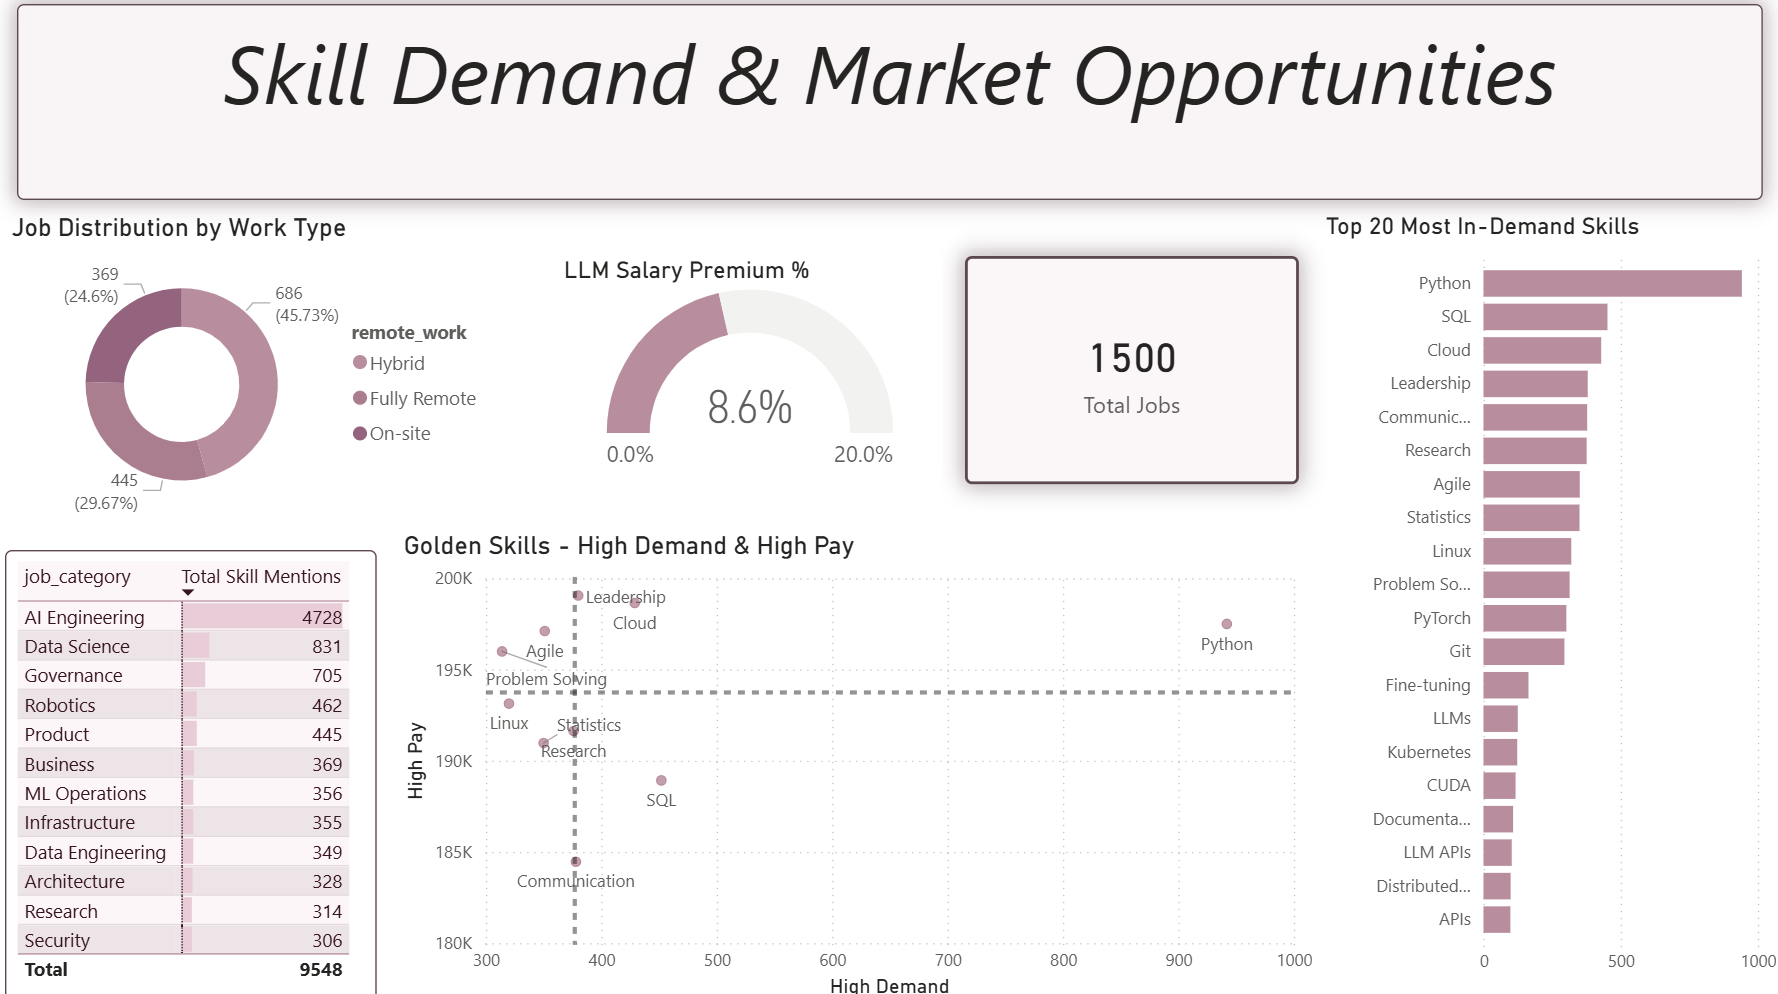

The dashboard page shown, as its layout file describes it:
{"tool":"powerbi","page":{"name":"Skills","canvas":[1280,720],"ordinal":1},"visuals":[{"type":"clusteredBarChart","title":"Top 20 Most In-Demand Skills ","fields":{"Category":["Skills_bridge.Skill_name"],"Y":["MeasuresTABLE.Total Skill Mentions"]},"box":[948.6,154.3,331.4,567.1],"z":0},{"type":"scatterChart","title":"Golden Skills - High Demand & High Pay","fields":{"Category":["Skills_bridge.Skill_name"],"X":["MeasuresTABLE.Total Skill Mentions"],"Y":["MeasuresTABLE.Avg Salary by Skill"]},"box":[290,381.4,658.6,338.6],"z":1000},{"type":"tableEx","fields":{"Values":["dim_JobCategory.job_category","MeasuresTABLE.Total Skill Mentions"]},"box":[10,395.7,265.7,324.3],"z":2000},{"type":"donutChart","title":"Job Distribution by Work Type","fields":{"Category":["dim_WorkType.remote_work"],"Y":["MeasuresTABLE.Total Jobs"]},"box":[10,154.3,351.4,225.7],"z":3000},{"type":"textbox","box":[19,6,1247,140],"z":4000},{"type":"card","fields":{"Values":["MeasuresTABLE.Total Jobs"]},"box":[695.7,185.7,238.6,162.9],"z":5000},{"type":"gauge","fields":{"Y":["MeasuresTABLE.LLM Salary Premium %"]},"box":[404.3,185.7,275.7,162.9],"z":6000}]}

Visuals, with their boxes in screenshot pixels (x1, y1, x2, y2), scaled from the page's 1280x720 canvas onto the 1778x994 screenshot:
"Top 20 Most In-Demand Skills " clusteredBarChart: locate(1318, 213, 1777, 993)
"Golden Skills - High Demand & High Pay" scatterChart: locate(403, 527, 1318, 993)
tableEx - dim_JobCategory.job_category x MeasuresTABLE.Total Skill Mentions: locate(14, 546, 383, 993)
"Job Distribution by Work Type" donutChart: locate(14, 213, 502, 525)
textbox: locate(26, 8, 1759, 202)
card - MeasuresTABLE.Total Jobs: locate(966, 256, 1298, 481)
gauge - MeasuresTABLE.LLM Salary Premium %: locate(562, 256, 945, 481)
